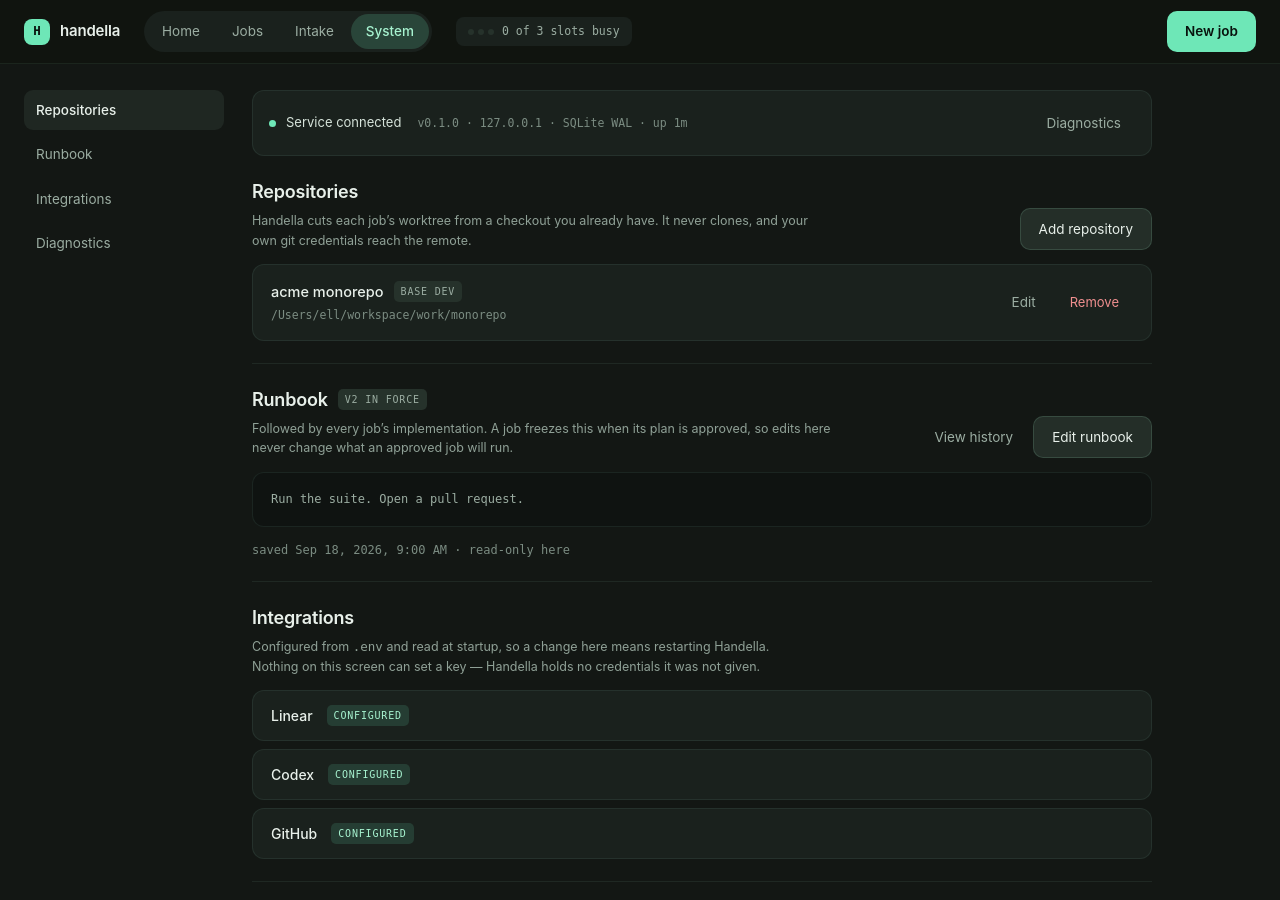
the runbook in settings › keeps the earlier versions readable
This screenshot has width=1280, height=900.
Click the button "View history". click: (974, 437)
box: x1=920 y1=416 x2=1027 y2=457
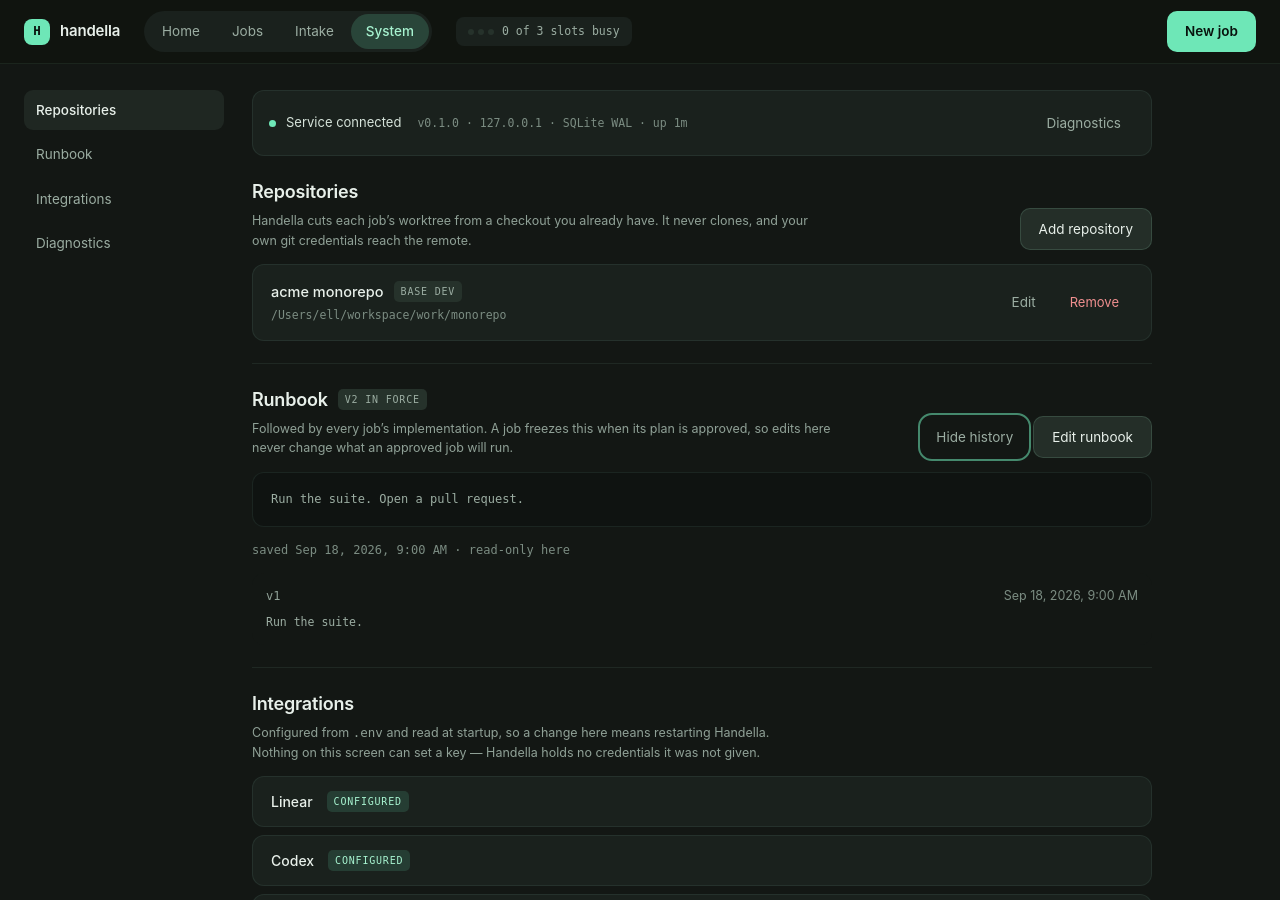
Expected: the text "v1" is shown, x1=266 y1=587 x2=280 y2=605
Expected: the text "Run the suite." is shown, x1=266 y1=615 x2=363 y2=629
